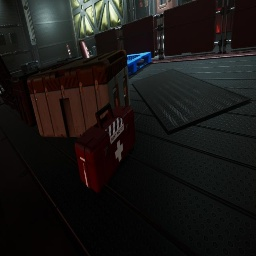0: (0, 88, 4, 97)
EmergencyPhone ,: (144, 0, 148, 7)
FireAlarm ,: (139, 0, 142, 8)
FirstAidBox ,: (75, 102, 136, 193)
NitrogenTank ,: (79, 39, 90, 59), (66, 44, 72, 58)
